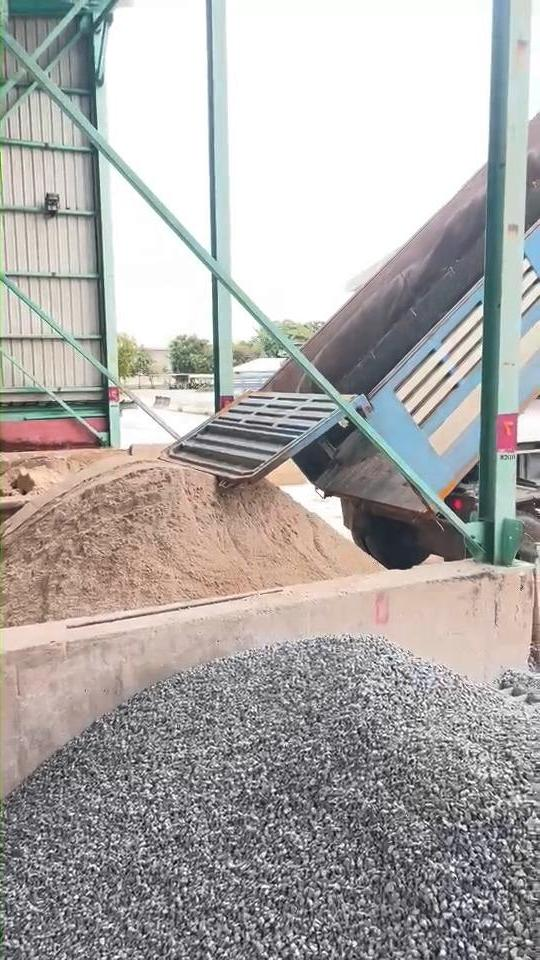gravel: (3, 637, 538, 959), (499, 669, 540, 715)
sand: (1, 454, 379, 624), (1, 457, 86, 496)
